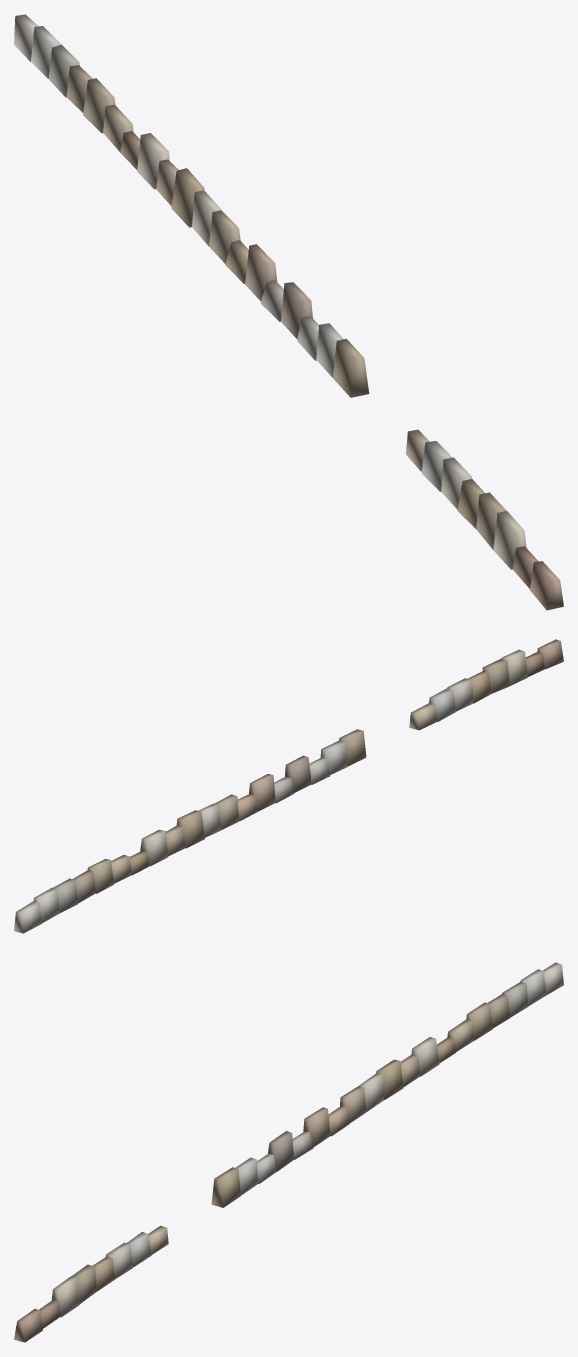
Rendered from farm_7_25_far.glb.
3 views of the same model, one above another, from view 1: azimuth 30°, elevation 25°; view 2: azimuth 150°, elevation 25°; view 3: azimuth 330°, elevation 25° (orthographic). The views are drawn at different scales.
Parts seen in each view (by area): view 1: geometry_0; view 2: geometry_0; view 3: geometry_0.
Boxes of the visible parts, <box> form: geometry_0: <box>14,14,563,610</box>; geometry_0: <box>14,639,563,933</box>; geometry_0: <box>14,962,563,1342</box>.
Bounding box in the file's own units: 5.45 × 3.75 × 46.6.
